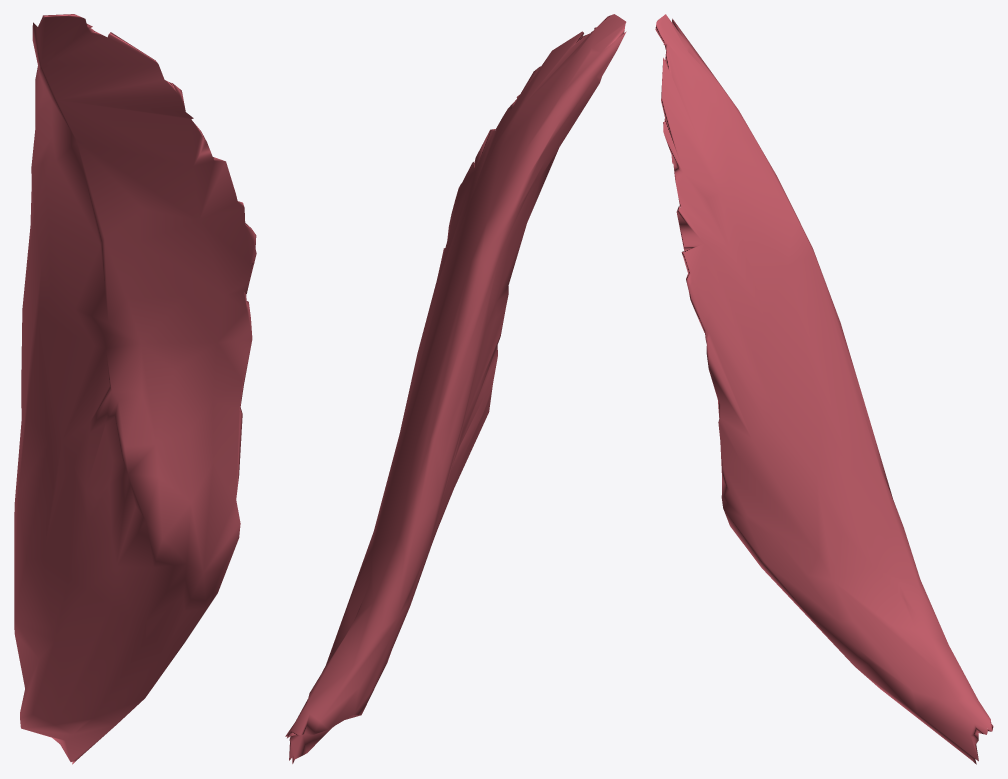
3 views of the same model, side by side, from view 1: azimuth 30°, elevation 25°; view 2: azimuth 150°, elevation 25°; view 3: azimuth 270°, elevation 25° (orthographic). The views are drawn at different scales.
Parts seen in each view (by area): view 1: 左侧头上斜肌; view 2: 左侧头上斜肌; view 3: 左侧头上斜肌.
Part boxes in pixels (x1,y1,x2,y2): 左侧头上斜肌: [14, 14, 256, 764]; 左侧头上斜肌: [285, 14, 626, 763]; 左侧头上斜肌: [655, 14, 993, 764].
Bounding box in the file's own units: 0.0211 × 0.0734 × 0.0338.
